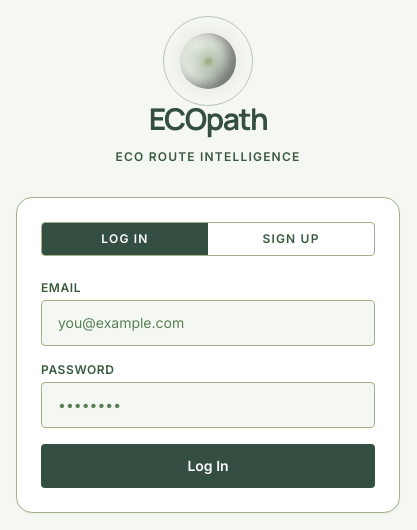
Test case: LoginPage › switches to Sign Up mode when Sign Up tab is clicked
Step 1. Click the button "Sign Up" → (291, 239), box [208,223,374,255]
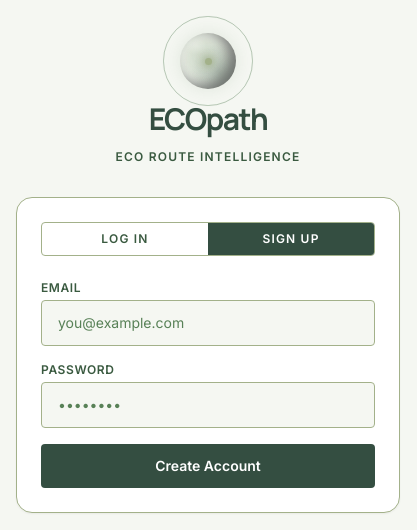
Result: the button "Create Account" is shown at [41,444,375,488]
